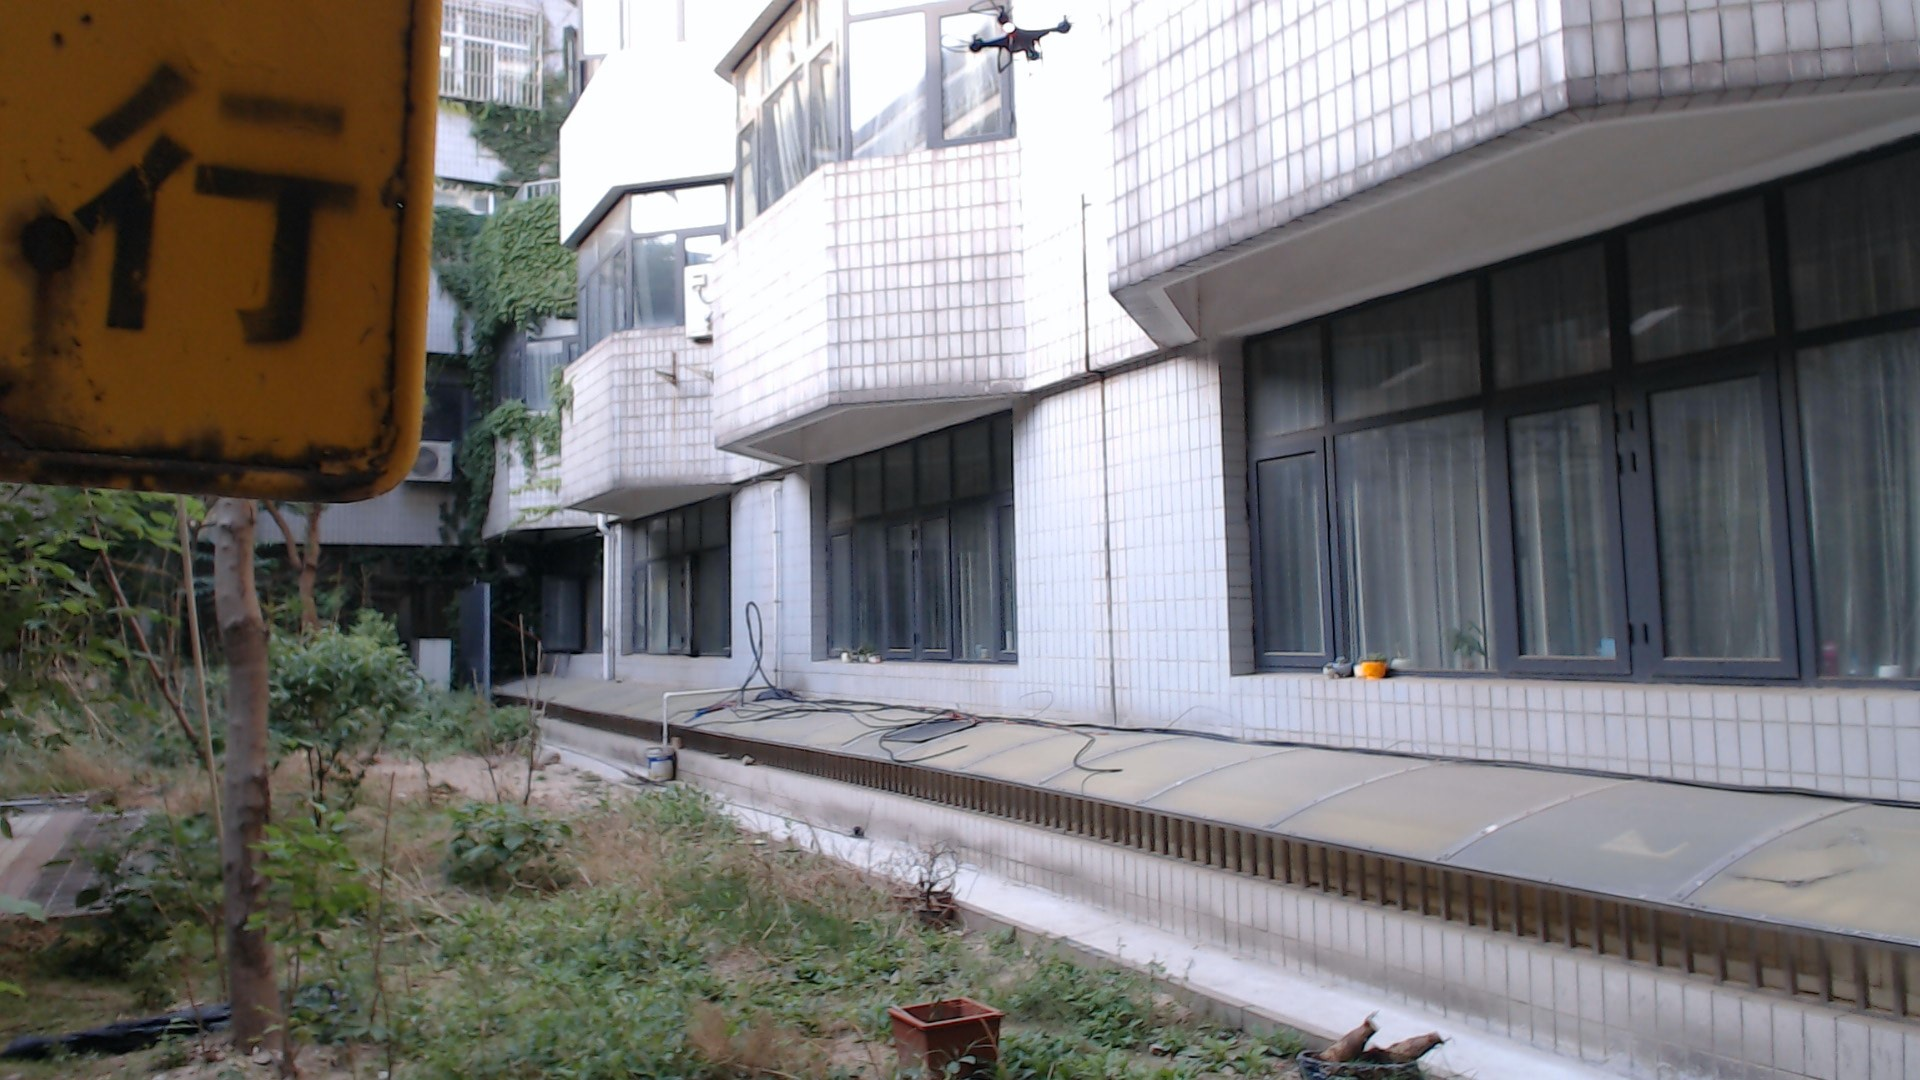drone: (934, 4, 1093, 76)
